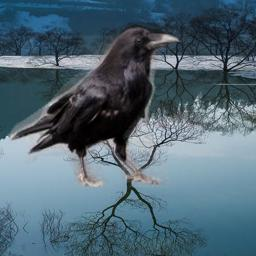Crow: (8, 22, 181, 187)
